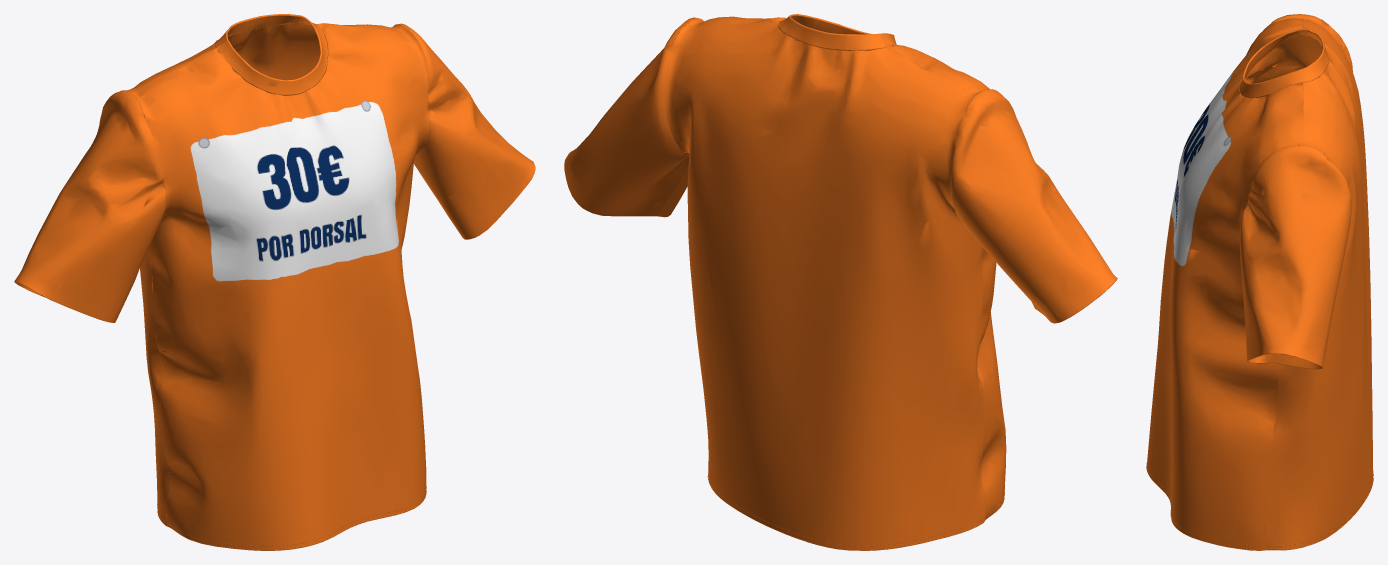
File: bono-shirt-final.glb
3 views of the same model, side by side, from view 1: azimuth 30°, elevation 25°; view 2: azimuth 150°, elevation 25°; view 3: azimuth 270°, elevation 25° (orthographic). The views are drawn at different scales.
Visible parts, largest first — view 1: cloth_parent; view 2: cloth_parent; view 3: cloth_parent.
Boxes of the visible parts, x1,y1,x2,y2 form: cloth_parent: [14, 14, 535, 550]; cloth_parent: [564, 14, 1117, 550]; cloth_parent: [1146, 14, 1373, 550].
Size of the model in its own units: 4.19 by 3.61 by 1.66.
1 material, 1 textured.
